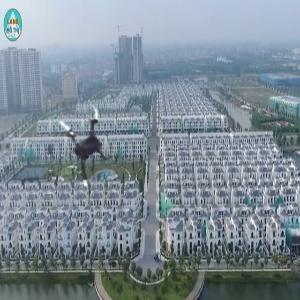drone: (38, 101, 125, 188)
